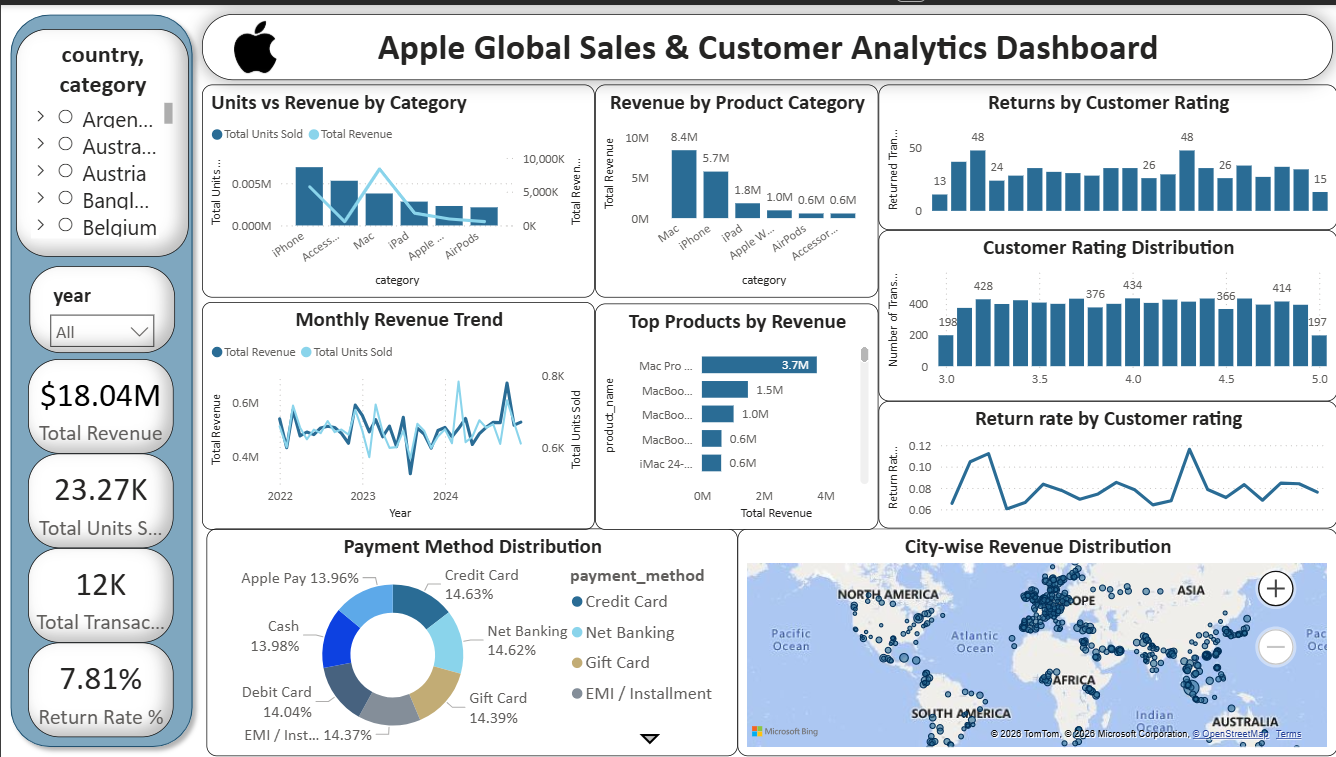

What the dashboard file says about the page in this screenshot:
{"tool":"powerbi","page":{"name":"BUSINESS INSIGHTS","canvas":[1280,720],"ordinal":0},"visuals":[{"type":"card","title":"Total Revenue (USD)","fields":{"Values":["apple_global_sales_dataset.Total Revenue"]},"box":[0,63.2,212.5,109.1],"z":0},{"type":"card","title":"Units Sold       ","fields":{"Values":["apple_global_sales_dataset.Total Units Sold"]},"box":[212.5,63.2,208.2,109.1],"z":1000},{"type":"card","title":"Transactions","fields":{"Values":["apple_global_sales_dataset.Total Transactions"]},"box":[420.8,63.2,208.2,109.1],"z":2000},{"type":"card","title":"Avg Selling Price","fields":{"Values":["apple_global_sales_dataset.Avg Selling Price"]},"box":[629,63.2,208.2,109.1],"z":3000},{"type":"card","title":"Return Rate","fields":{"Values":["apple_global_sales_dataset.Return Rate %"]},"box":[837.2,63.2,221.2,109.1],"z":4000},{"type":"slicer","fields":{"Values":["apple_global_sales_dataset.year"]},"box":[1058.4,63.2,221.2,109.1],"z":5000},{"type":"lineChart","title":"Monthly Revenue Trend","fields":{"Y":["apple_global_sales_dataset.Total Revenue"],"Y2":["apple_global_sales_dataset.Total Units Sold"],"Category":["apple_global_sales_dataset.sale_date.Variation.Date Hierarchy.Year","apple_global_sales_dataset.sale_date.Variation.Date Hierarchy.Month"]},"box":[0,172.3,630.4,188.1],"z":6000},{"type":"map","title":"City-wise Revenue Distribution","fields":{"Category":["apple_global_sales_dataset.city"],"Size":["apple_global_sales_dataset.Total Revenue"]},"box":[630.4,173.8,649.1,186.7],"z":7000},{"type":"donutChart","title":"Payment Method Distribution","fields":{"Category":["apple_global_sales_dataset.payment_method"],"Y":["apple_global_sales_dataset.Total Transactions"]},"box":[0,360.5,420.8,182.4],"z":8000},{"type":"clusteredColumnChart","title":"Customer Rating Distribution","fields":{"Category":["apple_global_sales_dataset.customer_rating"],"Y":["apple_global_sales_dataset.Total Transactions"]},"box":[837.2,360.5,442.3,182.4],"z":9000},{"type":"clusteredColumnChart","title":"Returns by Customer Rating","fields":{"Category":["apple_global_sales_dataset.customer_rating"],"Y":["apple_global_sales_dataset.Returned Transactions"]},"box":[0,542.8,315.9,176.6],"z":10000},{"type":"lineChart","title":"Return rate by Customer rating","fields":{"Category":["apple_global_sales_dataset.customer_rating"],"Y":["apple_global_sales_dataset.Return Rate by Rating %"]},"box":[315.9,542.8,313.1,176.6],"z":11000},{"type":"clusteredColumnChart","title":"Revenue by Product Category","fields":{"Category":["apple_global_sales_dataset.category"],"Y":["apple_global_sales_dataset.Total Revenue"]},"box":[630.4,542.8,298.7,176.6],"z":12000},{"type":"clusteredBarChart","title":"Top Products by Revenue","fields":{"Category":["apple_global_sales_dataset.product_name"],"Y":["apple_global_sales_dataset.Total Revenue"]},"box":[929.1,542.8,192.4,176.6],"z":13000},{"type":"lineClusteredColumnComboChart","title":"Units vs Revenue by Category","fields":{"Category":["apple_global_sales_dataset.category"],"Y":["apple_global_sales_dataset.Total Units Sold"],"Y2":["apple_global_sales_dataset.Total Revenue"]},"box":[420.8,360.5,416.5,182.4],"z":14000},{"type":"listSlicer","title":"country, category, sales channel","fields":{"Values":["apple_global_sales_dataset.country","apple_global_sales_dataset.category","apple_global_sales_dataset.sales_channel"]},"box":[1121.6,542.8,158,176.6],"z":15000},{"type":"textbox","box":[1.4,0,1278.1,63.2],"z":16000}]}

Visuals, with their boxes in screenshot pixels (x1, y1, x2, y2), scaled from the page's 1280x720 canvas onto the 1336x757 screenshot:
"Total Revenue (USD)" card: select_region(0, 66, 222, 181)
"Units Sold       " card: select_region(222, 66, 439, 181)
"Transactions" card: select_region(439, 66, 657, 181)
"Avg Selling Price" card: select_region(657, 66, 874, 181)
"Return Rate" card: select_region(874, 66, 1105, 181)
slicer - apple_global_sales_dataset.year: select_region(1105, 66, 1335, 181)
"Monthly Revenue Trend" lineChart: select_region(0, 181, 658, 379)
"City-wise Revenue Distribution" map: select_region(658, 183, 1335, 379)
"Payment Method Distribution" donutChart: select_region(0, 379, 439, 571)
"Customer Rating Distribution" clusteredColumnChart: select_region(874, 379, 1335, 571)
"Returns by Customer Rating" clusteredColumnChart: select_region(0, 571, 330, 756)
"Return rate by Customer rating" lineChart: select_region(330, 571, 657, 756)
"Revenue by Product Category" clusteredColumnChart: select_region(658, 571, 970, 756)
"Top Products by Revenue" clusteredBarChart: select_region(970, 571, 1171, 756)
"Units vs Revenue by Category" lineClusteredColumnComboChart: select_region(439, 379, 874, 571)
"country, category, sales channel" listSlicer: select_region(1171, 571, 1335, 756)
textbox: select_region(1, 0, 1335, 66)
